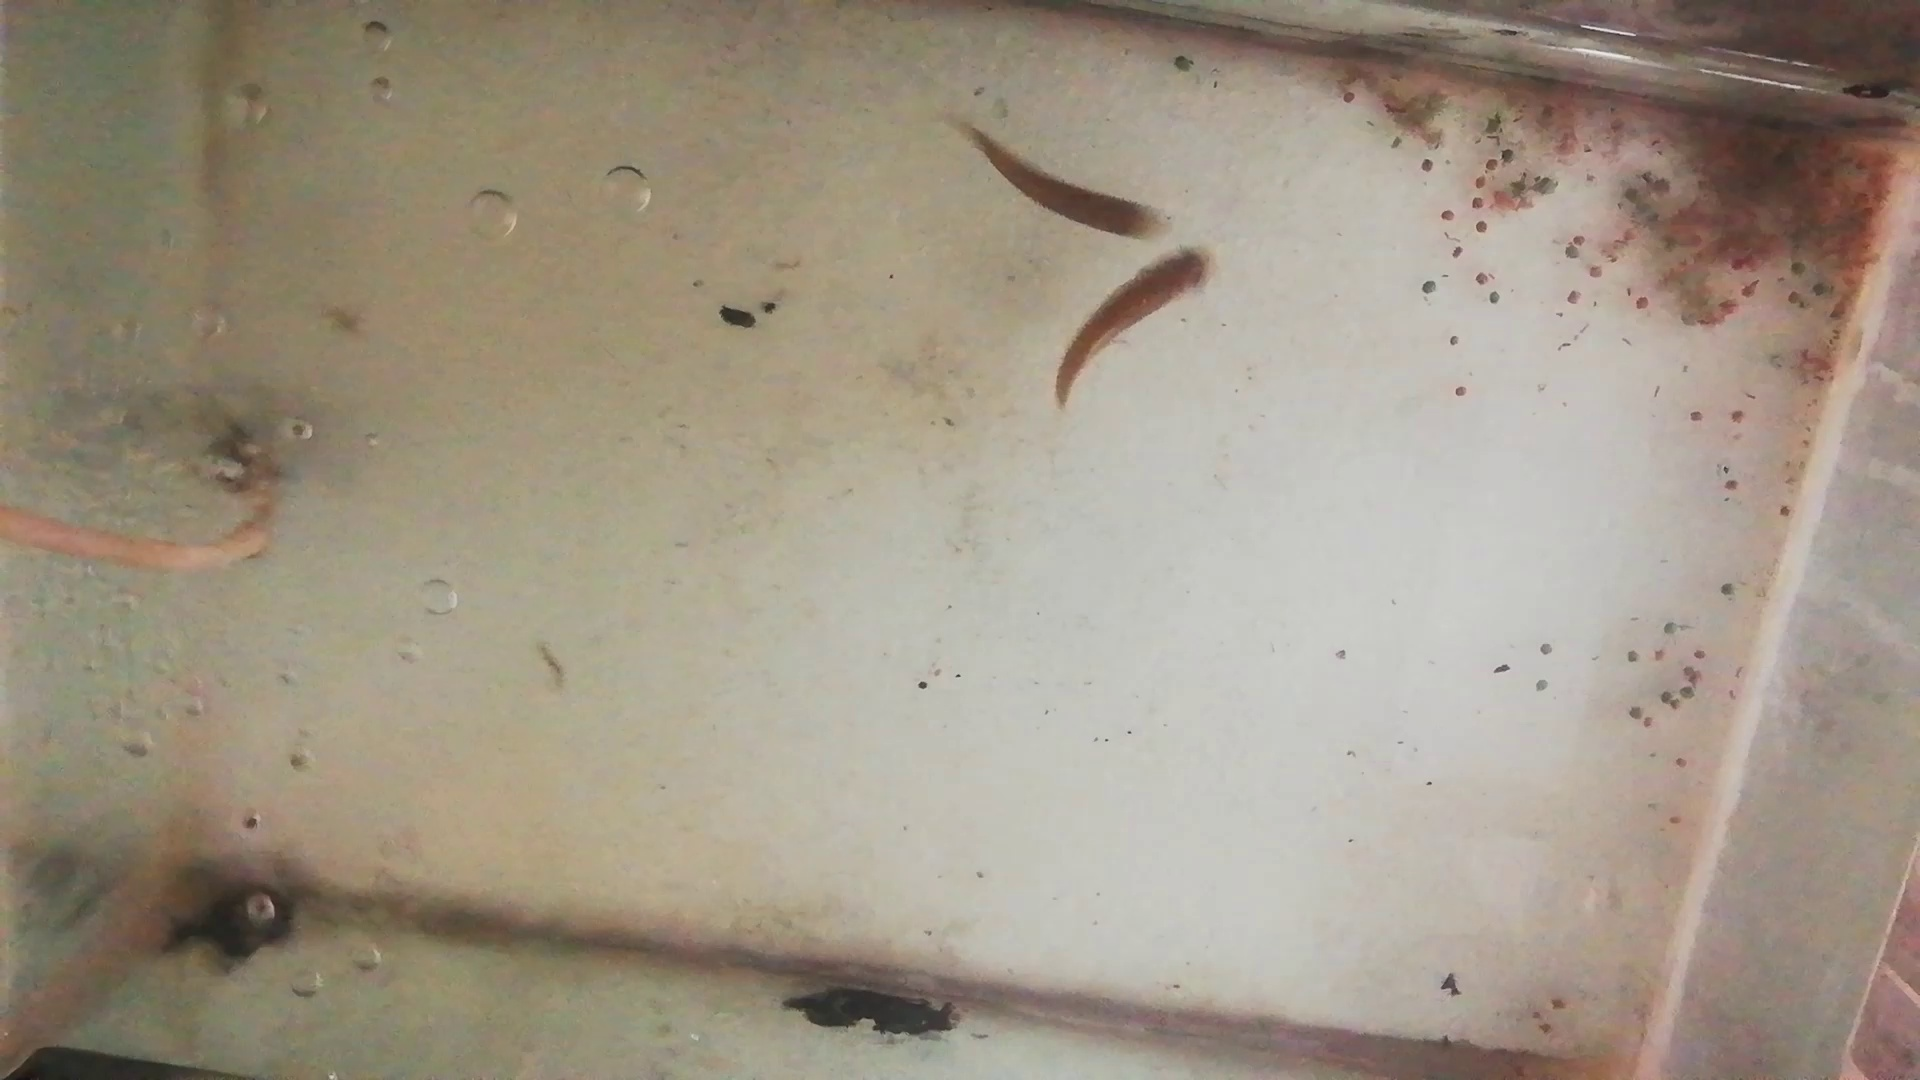fish: (1050, 253, 1218, 405), (953, 121, 1168, 240)
